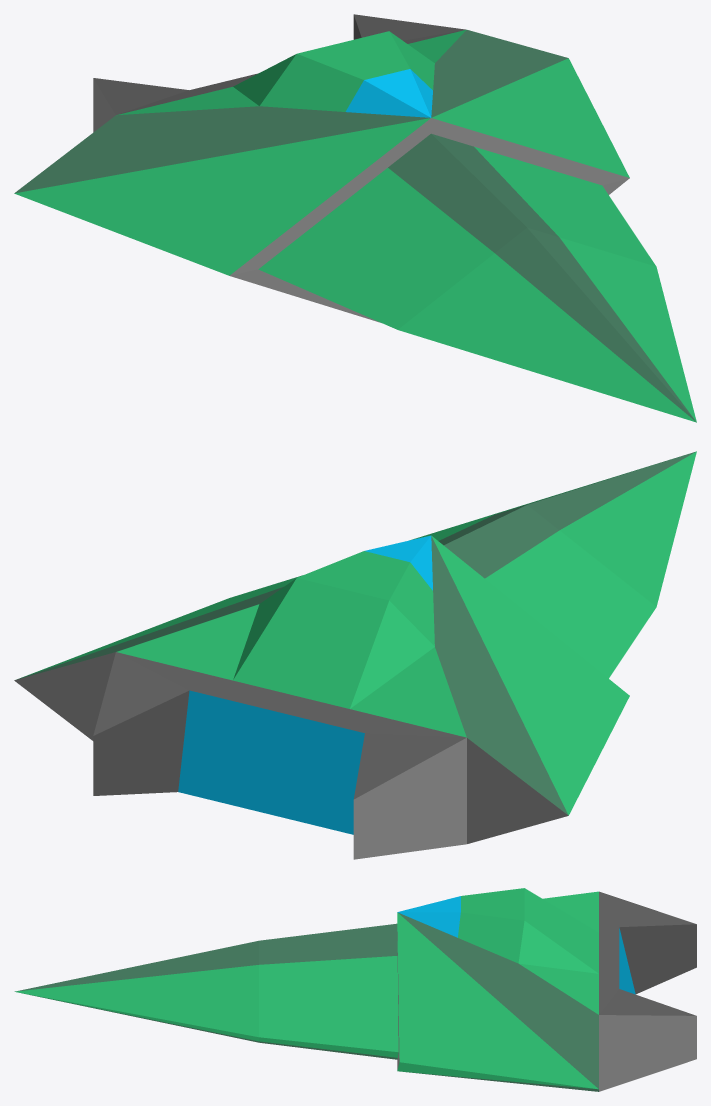
File: tri_frigate.fbx
The picture shows the model from 3 angles, top to bottom: view 1: azimuth 30°, elevation 25°; view 2: azimuth 150°, elevation 25°; view 3: azimuth 270°, elevation 25°; orthographic projection. The views are drawn at different scales.
Parts seen in each view (by area): view 1: blaster; view 2: blaster; view 3: blaster.
Part boxes in pixels (x1=…): blaster: x1=14, y1=14, x2=696, y2=422; blaster: x1=14, y1=451, x2=696, y2=859; blaster: x1=14, y1=888, x2=696, y2=1091.
Bounding box in the file's own units: 28.28 × 11.29 × 41.82.
Materials: 1 (1 with a texture image).
